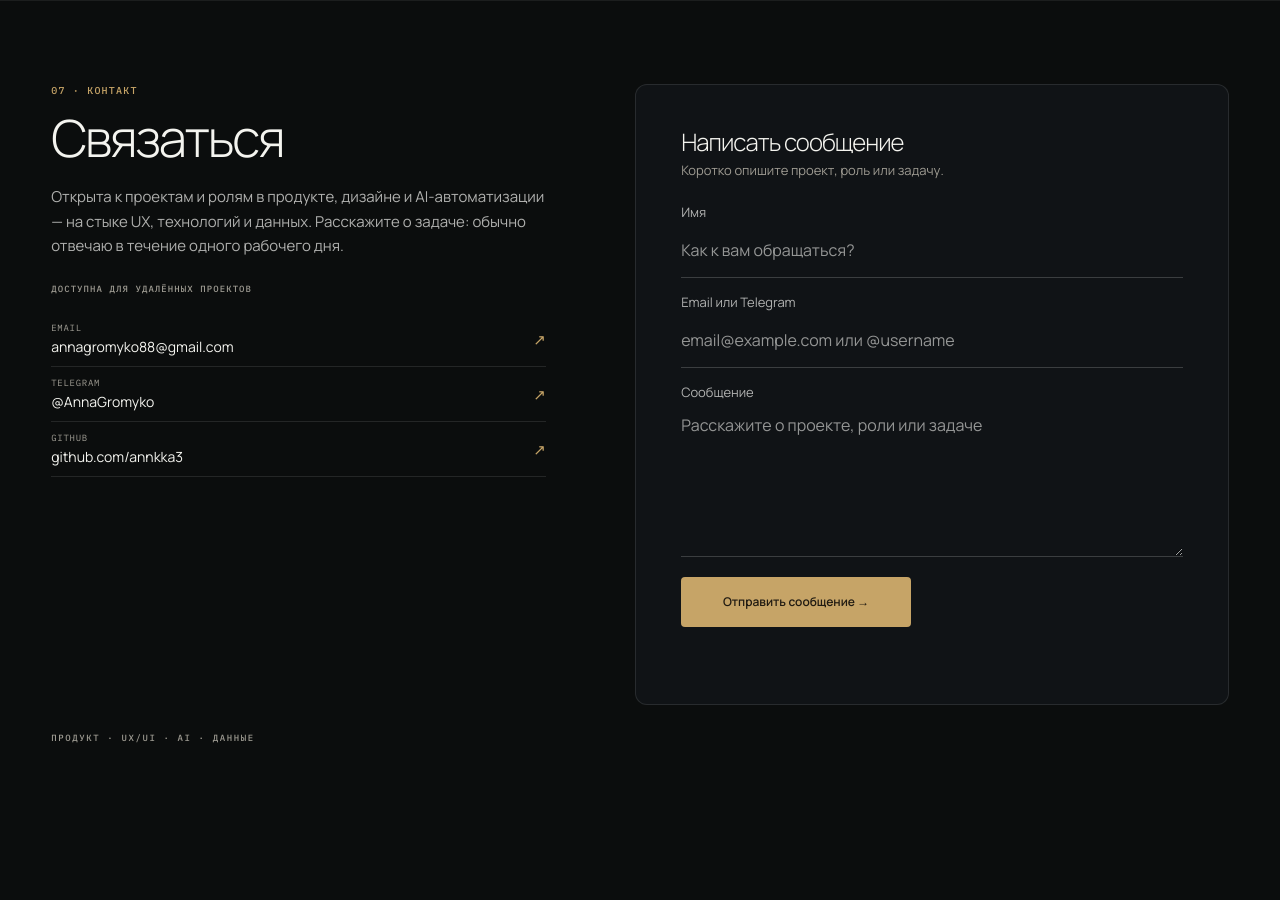
Test: Contact › offers direct alternatives when the endpoint is absent
The width and height of the screenshot is (1280, 900).
In the field labelled "Имя": (932, 251) left=681, top=224, right=1183, bottom=278, type "Анна"
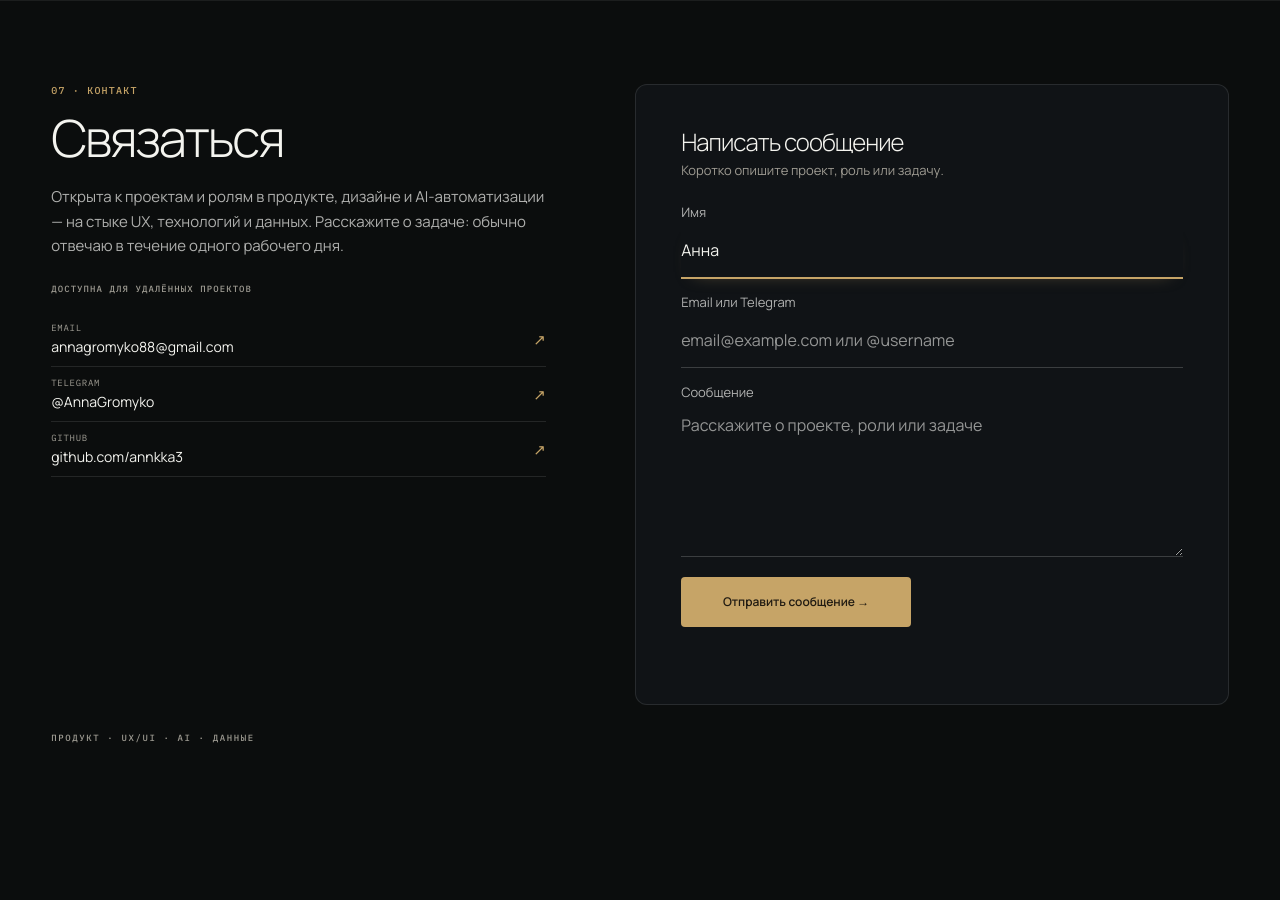
In the field labelled "Email или Telegram": (932, 341) left=681, top=314, right=1183, bottom=368, type "@anna"
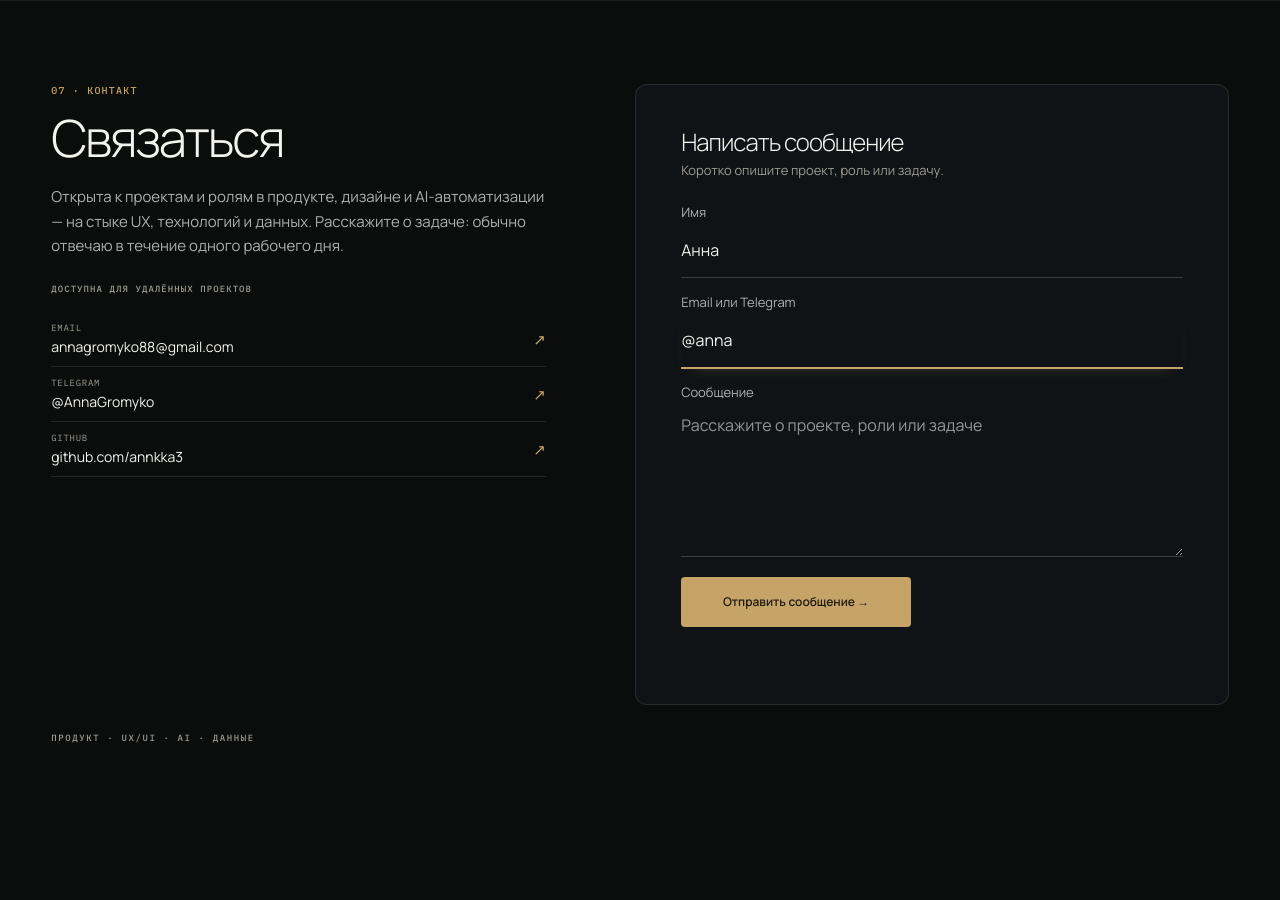
In the text box labelled "Сообщение": (932, 480) left=681, top=404, right=1183, bottom=557, type "Описание проекта и задачи для совместной работы."
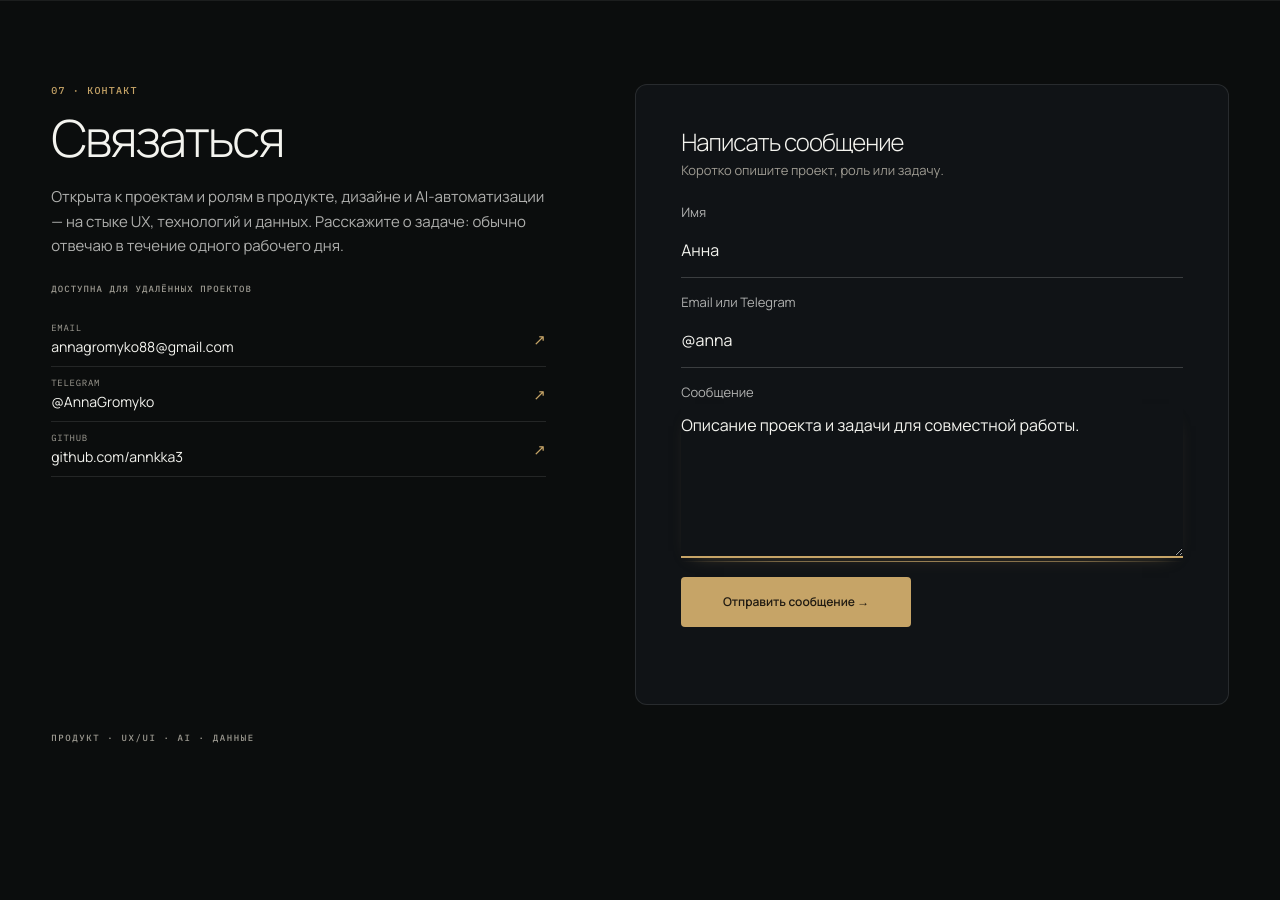
Click the button "Отправить сообщение →": click(796, 602) left=681, top=577, right=911, bottom=627
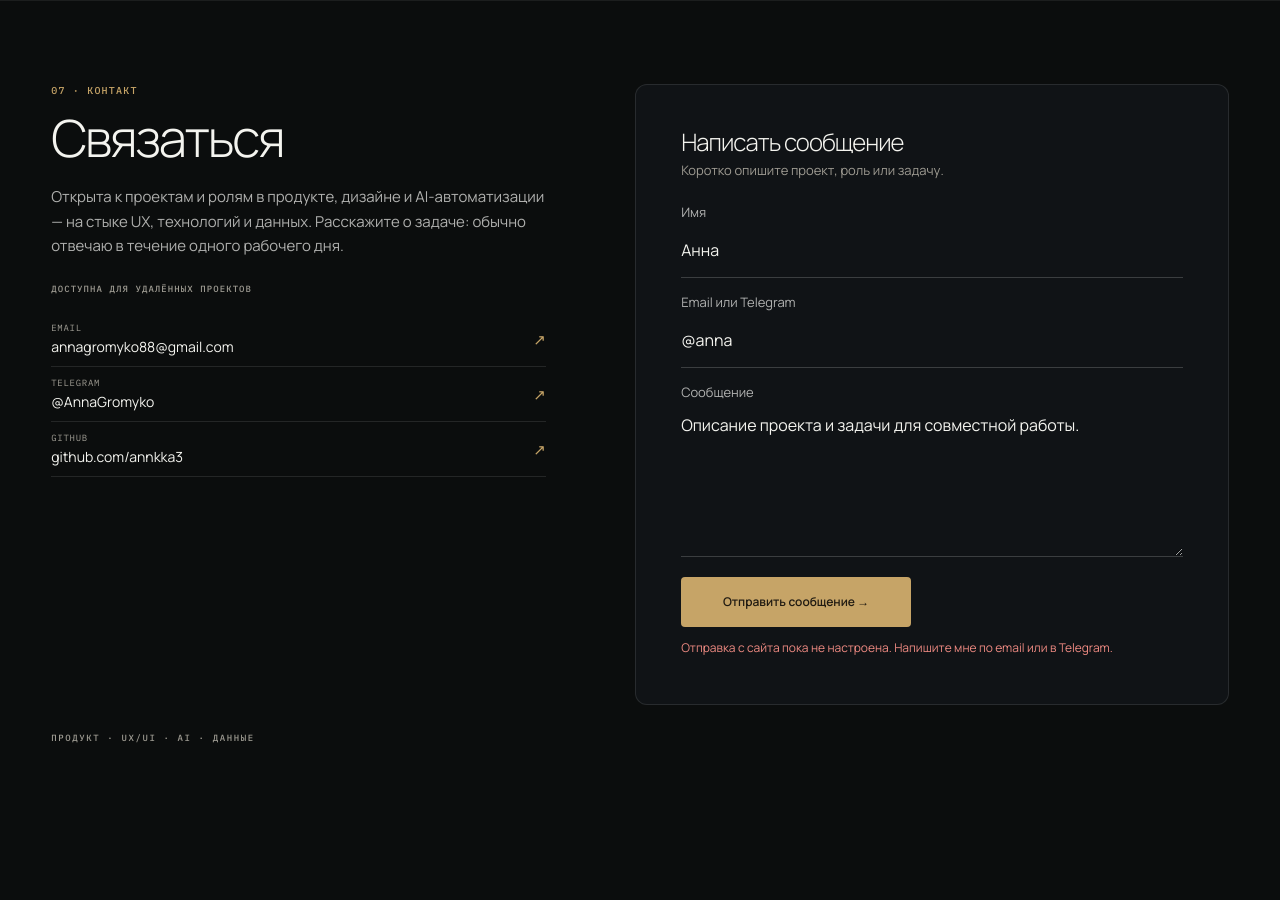
Expected: the text "Отправка с сайта пока не настроена. Напишите мне по email или в Telegram." is shown, left=681, top=639, right=1183, bottom=659
